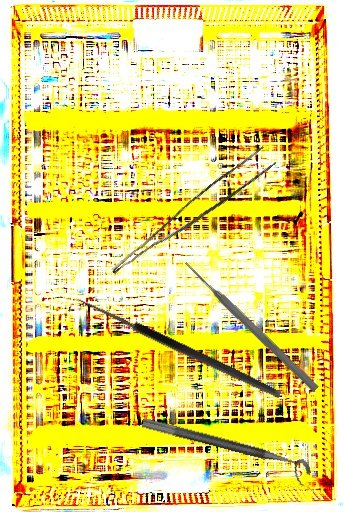Fixation Ring: (137, 416, 314, 488)
Hook Surgical: (67, 292, 283, 410)
Pusher: (181, 258, 321, 394)
Tissue Forceps: (110, 141, 278, 291)
